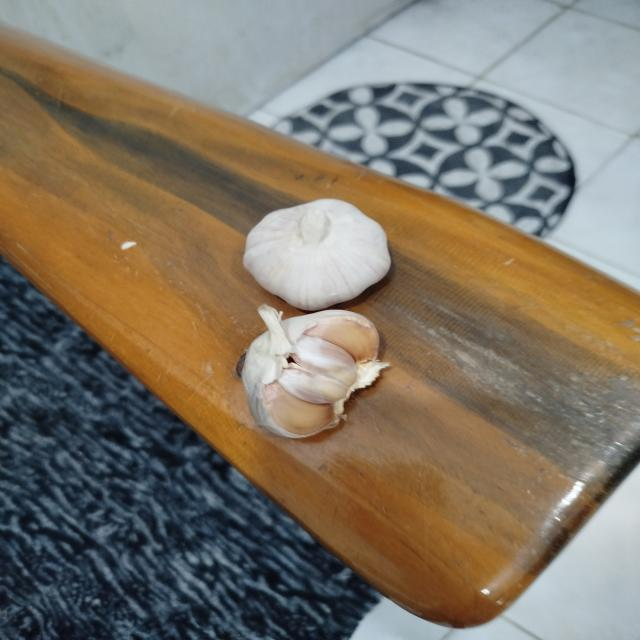garlic: (238, 304, 390, 439), (242, 197, 392, 311)
